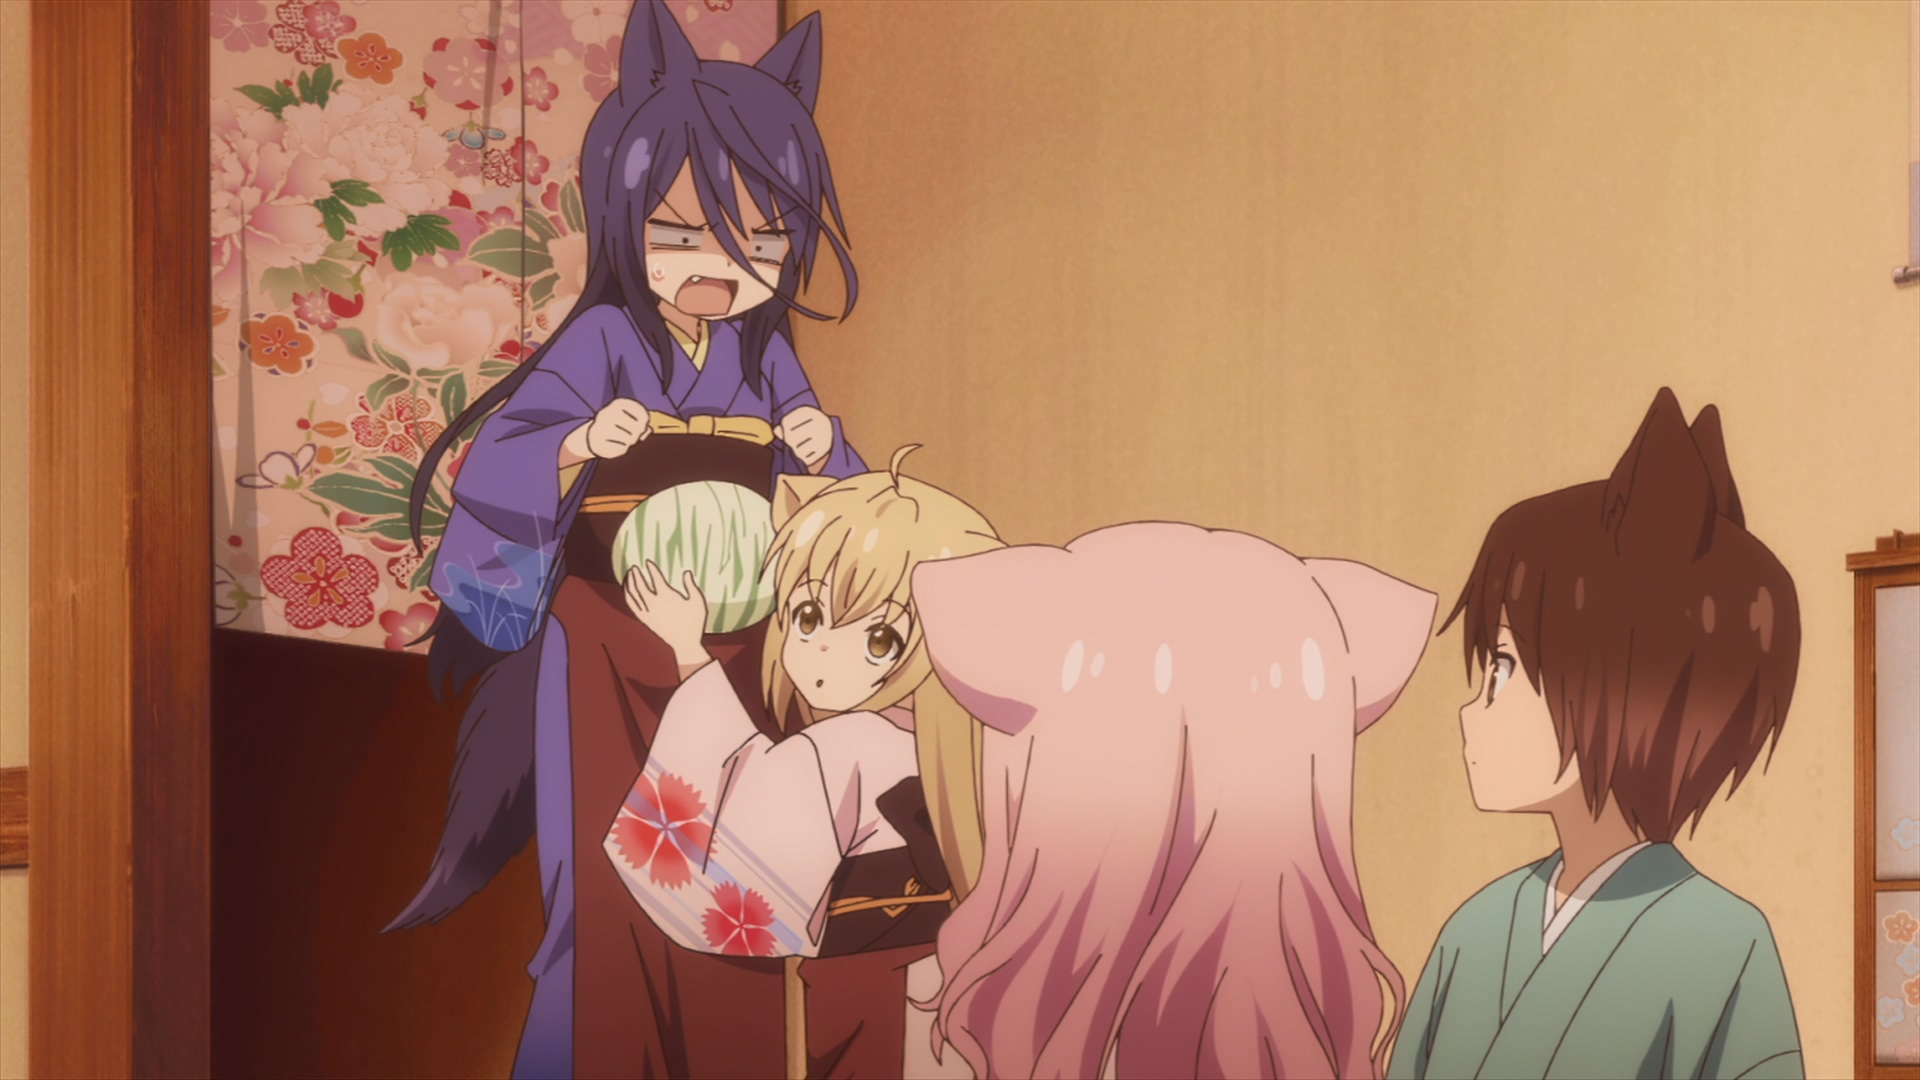枣: (1389, 388, 1803, 1080)
柚: (601, 444, 1000, 1080)
皋: (378, 1, 870, 1080)
莲: (910, 524, 1437, 1080)
